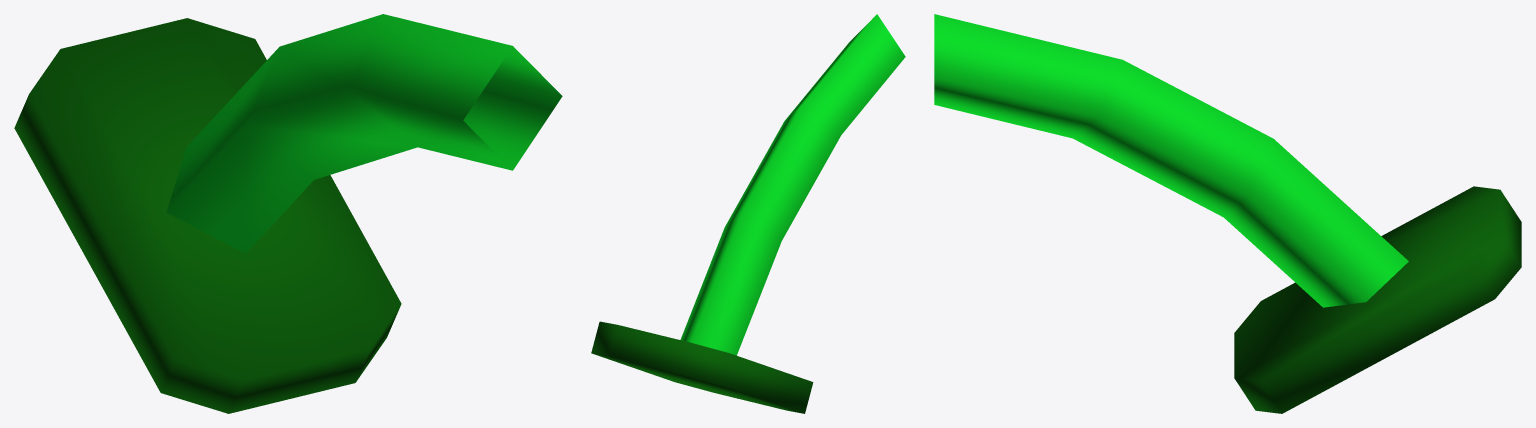
File: VC_ClutchPedal_01.fbx
3 renders of one model, left to right at view 1: azimuth 30°, elevation 25°; view 2: azimuth 150°, elevation 25°; view 3: azimuth 270°, elevation 25°, orthographic. The views are drawn at different scales.
Visible parts, largest first — view 1: VC_ClutchPedal_low; view 2: VC_ClutchPedal_low; view 3: VC_ClutchPedal_low.
Boxes of the visible parts, x1,y1,x2,y2 form: VC_ClutchPedal_low: (14,14,562,413); VC_ClutchPedal_low: (591,14,905,413); VC_ClutchPedal_low: (934,14,1521,413).
Size of the model in its own units: 0.0455 by 0.0988 by 0.1406.
